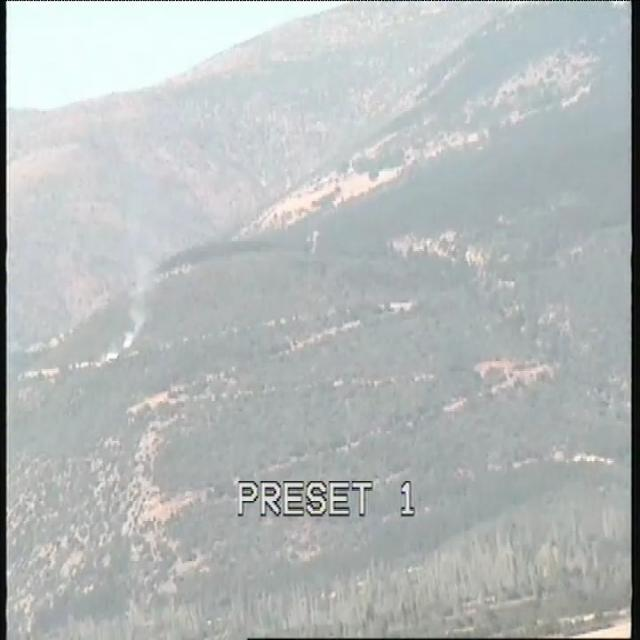smoke: (102, 287, 156, 367)
